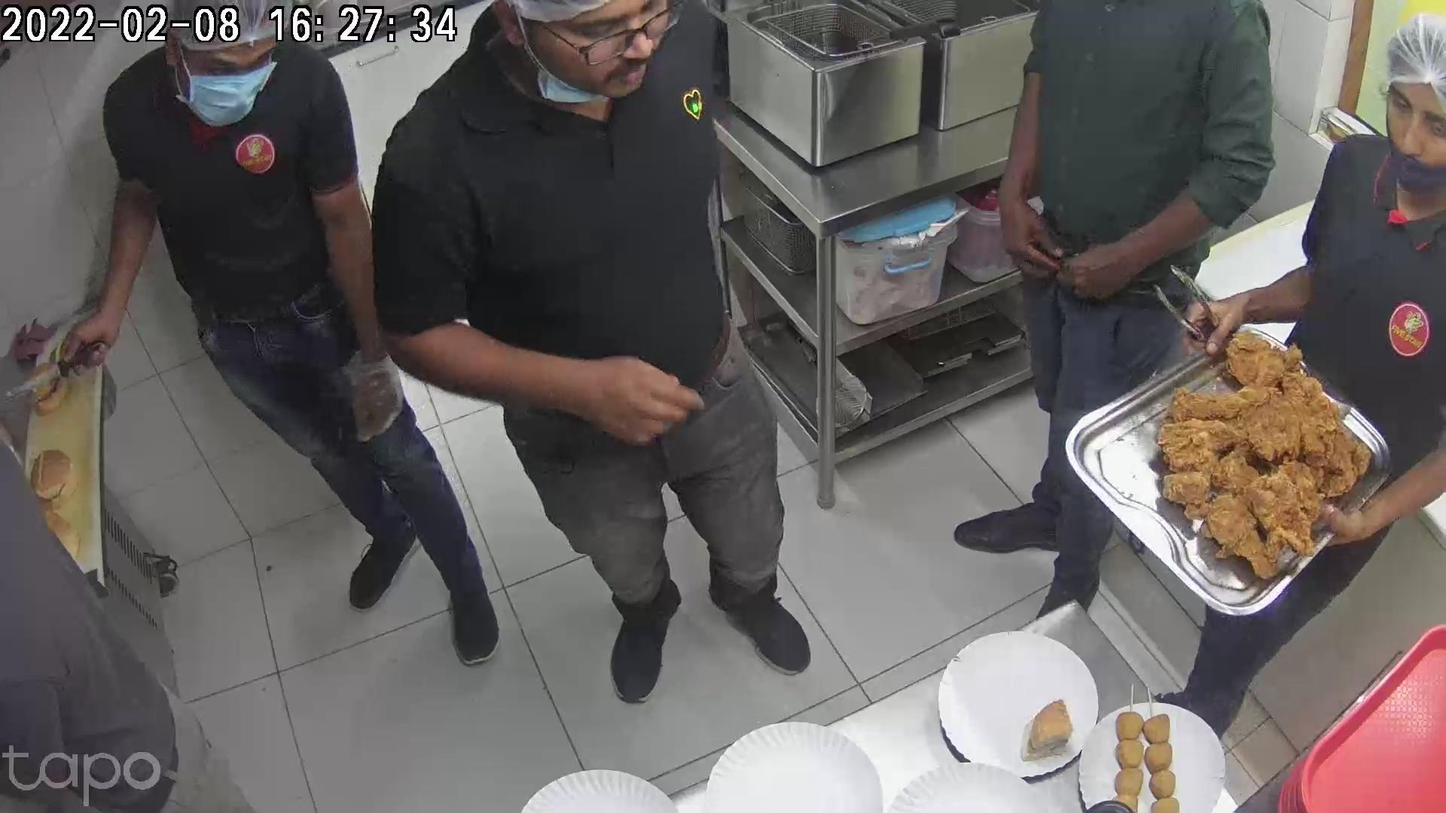no_gloves: (542, 355, 702, 444)
